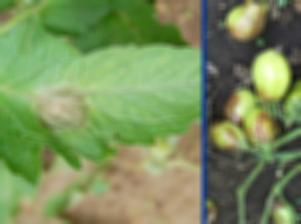Tomato leaf late blight: (0, 17, 201, 182)
